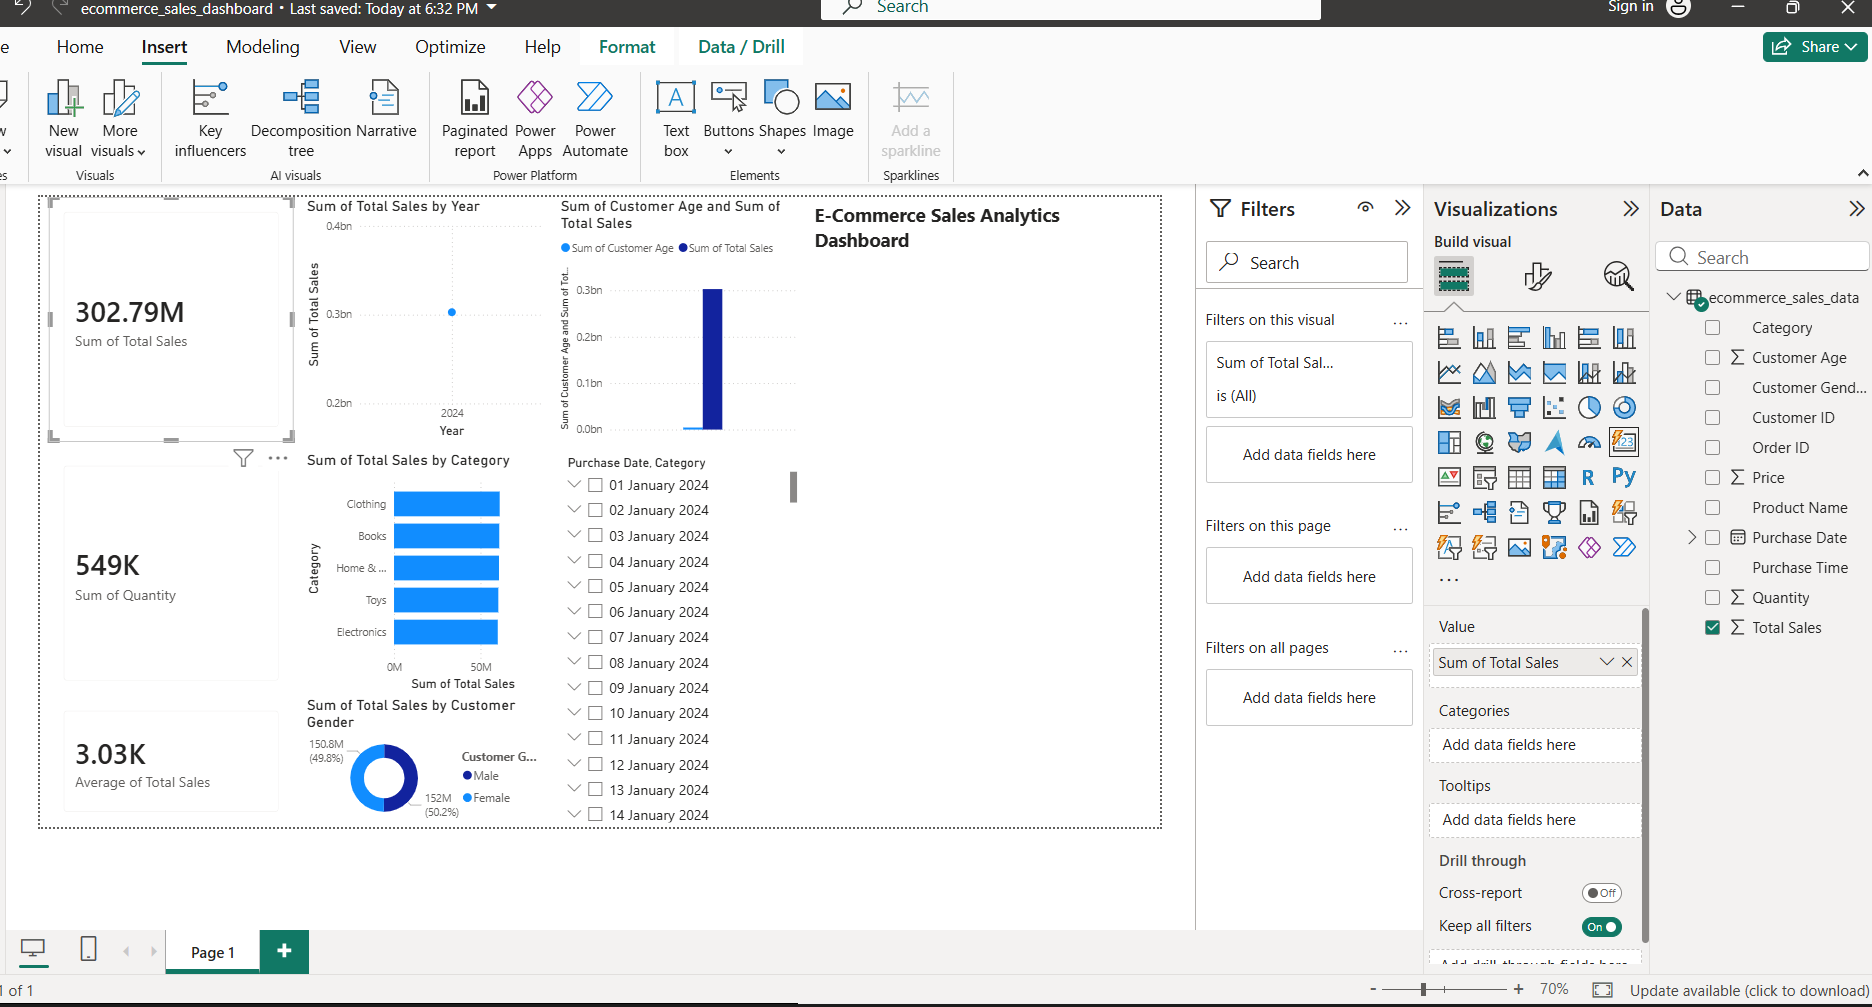

The dashboard page shown, as its layout file describes it:
{"tool":"powerbi","page":{"name":"Page 1","canvas":[1280,720],"ordinal":0},"visuals":[{"type":"cardVisual","fields":{"Data":["Sum(ecommerce_sales_data.Total Sales)"]},"box":[10,0,280,280],"z":0},{"type":"cardVisual","fields":{"Data":["Sum(ecommerce_sales_data.Quantity)"]},"box":[10,290,280,280],"z":1000},{"type":"cardVisual","fields":{"Data":["Avg(ecommerce_sales_data.Total Sales)"]},"box":[10,570,280,150],"z":2000},{"type":"lineChart","fields":{"Category":["ecommerce_sales_data.Purchase Date.Variation.Date Hierarchy.Year","ecommerce_sales_data.Purchase Date.Variation.Date Hierarchy.Quarter","ecommerce_sales_data.Purchase Date.Variation.Date Hierarchy.Month","ecommerce_sales_data.Purchase Date.Variation.Date Hierarchy.Day"],"Y":["Sum(ecommerce_sales_data.Total Sales)"]},"box":[300,0,280,280],"z":3000},{"type":"clusteredBarChart","fields":{"Category":["ecommerce_sales_data.Category"],"Y":["Sum(ecommerce_sales_data.Total Sales)"]},"box":[300,290,280,280],"z":4000},{"type":"donutChart","fields":{"Category":["ecommerce_sales_data.Customer Gender"],"Y":["Sum(ecommerce_sales_data.Total Sales)"]},"box":[300,570,280,150],"z":5000},{"type":"clusteredColumnChart","fields":{"Y":["Sum(ecommerce_sales_data.Customer Age)","Sum(ecommerce_sales_data.Total Sales)"]},"box":[590,0,280,280],"z":5001},{"type":"slicer","fields":{"Values":["ecommerce_sales_data.Purchase Date","ecommerce_sales_data.Category"]},"box":[590,290,280,430],"z":5002},{"type":"textbox","box":[880,0,334.3,98.6],"z":5003}]}

Visuals, with their boxes on the page's 1280x720 design canvas (x1, y1, x2, y2). These are canvas units, not pixel positions in the 1872x1007 screenshot, which may show the page scaled, cropped or inside an application window:
cardVisual - Sum(ecommerce_sales_data.Total Sales): bbox(10, 0, 290, 280)
cardVisual - Sum(ecommerce_sales_data.Quantity): bbox(10, 290, 290, 570)
cardVisual - Avg(ecommerce_sales_data.Total Sales): bbox(10, 570, 290, 720)
lineChart - ecommerce_sales_data.Purchase Date.Variation.Date Hierarchy.Year x ecommerce_sales_data.Purchase Date.Variation.Date Hierarchy.Quarter: bbox(300, 0, 580, 280)
clusteredBarChart - ecommerce_sales_data.Category x Sum(ecommerce_sales_data.Total Sales): bbox(300, 290, 580, 570)
donutChart - ecommerce_sales_data.Customer Gender x Sum(ecommerce_sales_data.Total Sales): bbox(300, 570, 580, 720)
clusteredColumnChart - Sum(ecommerce_sales_data.Customer Age) x Sum(ecommerce_sales_data.Total Sales): bbox(590, 0, 870, 280)
slicer - ecommerce_sales_data.Purchase Date x ecommerce_sales_data.Category: bbox(590, 290, 870, 720)
textbox: bbox(880, 0, 1214, 99)
